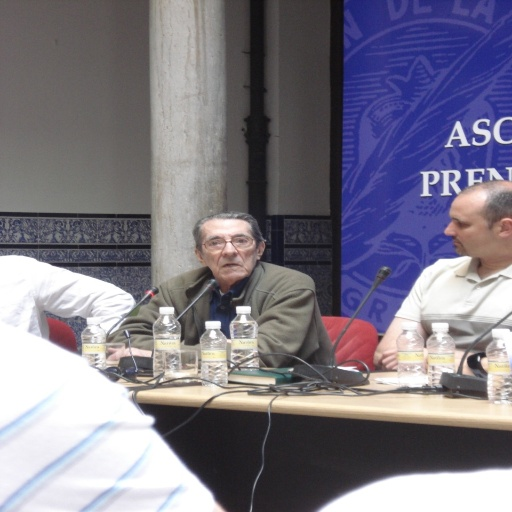hand: (99, 344, 155, 363), (381, 348, 405, 368)
